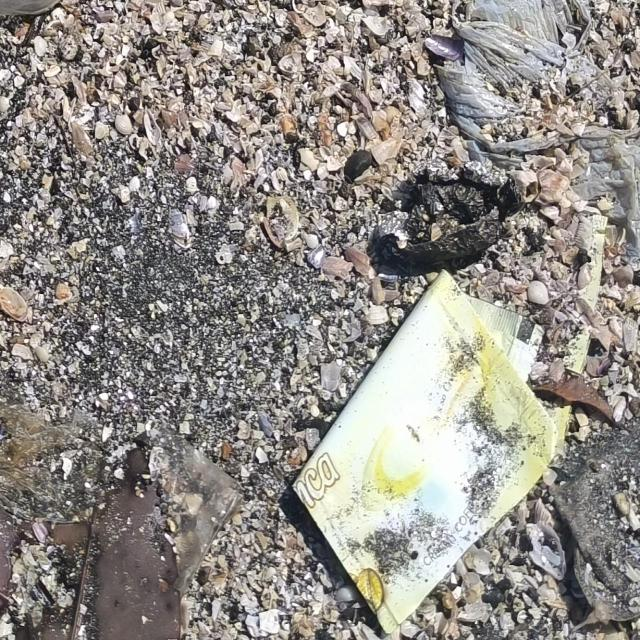plastic_waste: (290, 271, 574, 636)
